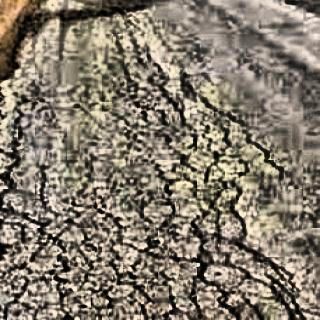alligator-crack: (2, 5, 269, 320)
